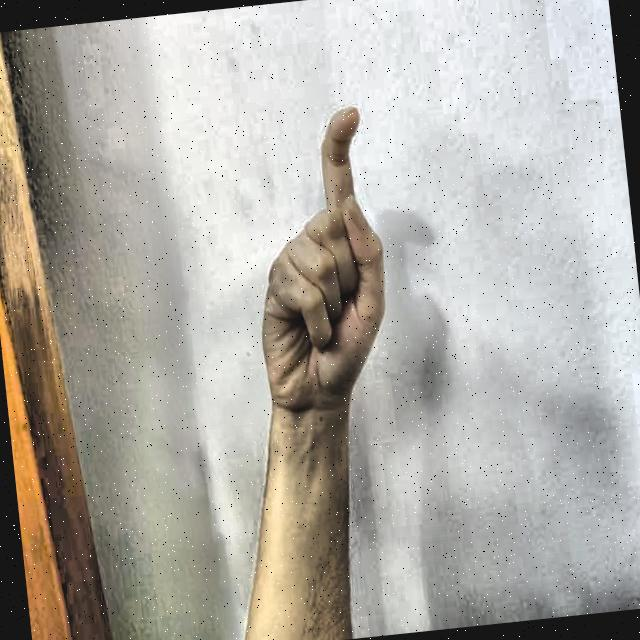E: (217, 78, 431, 428)
